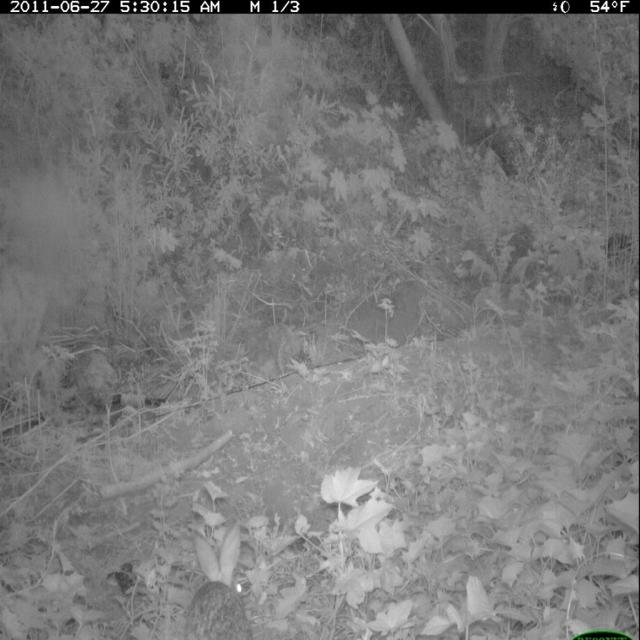rabbit: (166, 515, 266, 640)
